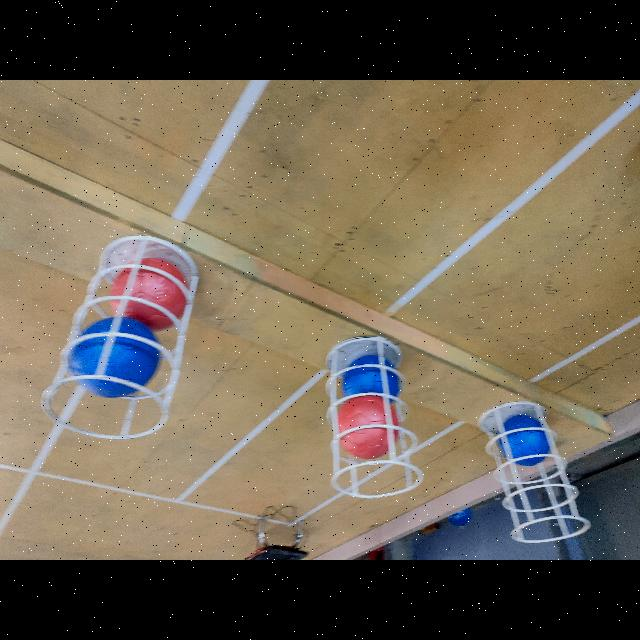B: (68, 316, 160, 398), (342, 354, 402, 406), (498, 416, 550, 466)
R: (110, 257, 188, 331), (336, 396, 399, 458)
